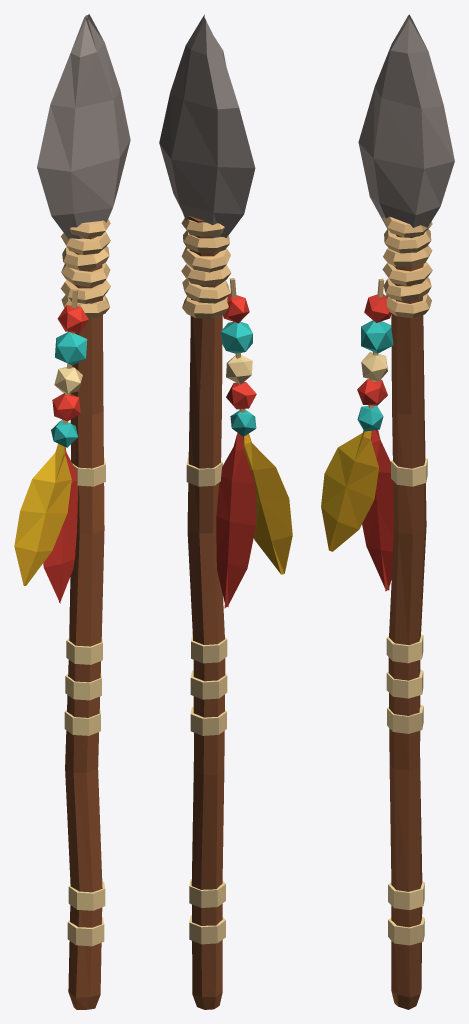
Rendered from SpearV2.fbx.
3 views of the same model, side by side, from view 1: azimuth 30°, elevation 25°; view 2: azimuth 150°, elevation 25°; view 3: azimuth 330°, elevation 25° (orthographic).
Visible parts, largest first — view 1: SpearV2; view 2: SpearV2; view 3: SpearV2.
Boxes of the visible parts, left/top/right/bottom form: SpearV2: left=14, top=14, right=130, bottom=1009; SpearV2: left=159, top=14, right=292, bottom=1009; SpearV2: left=321, top=14, right=454, bottom=1009.
Bounding box in the file's own units: 0.2741 × 2.08 × 0.1092.
